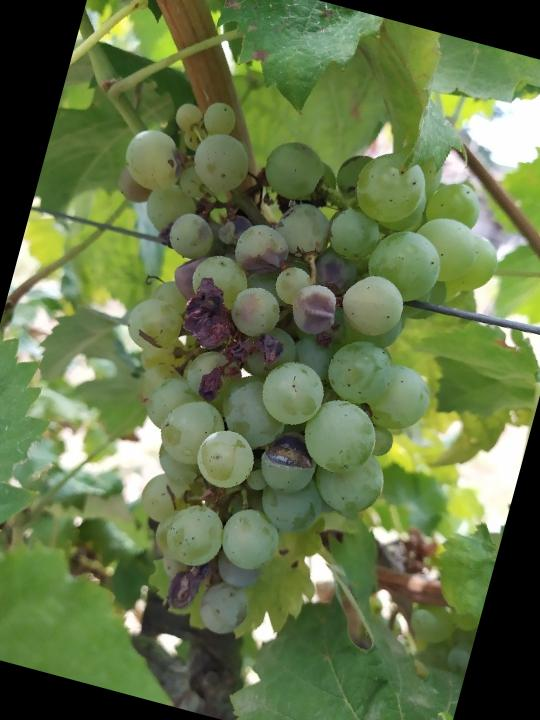grape: (7, 79, 521, 681)
